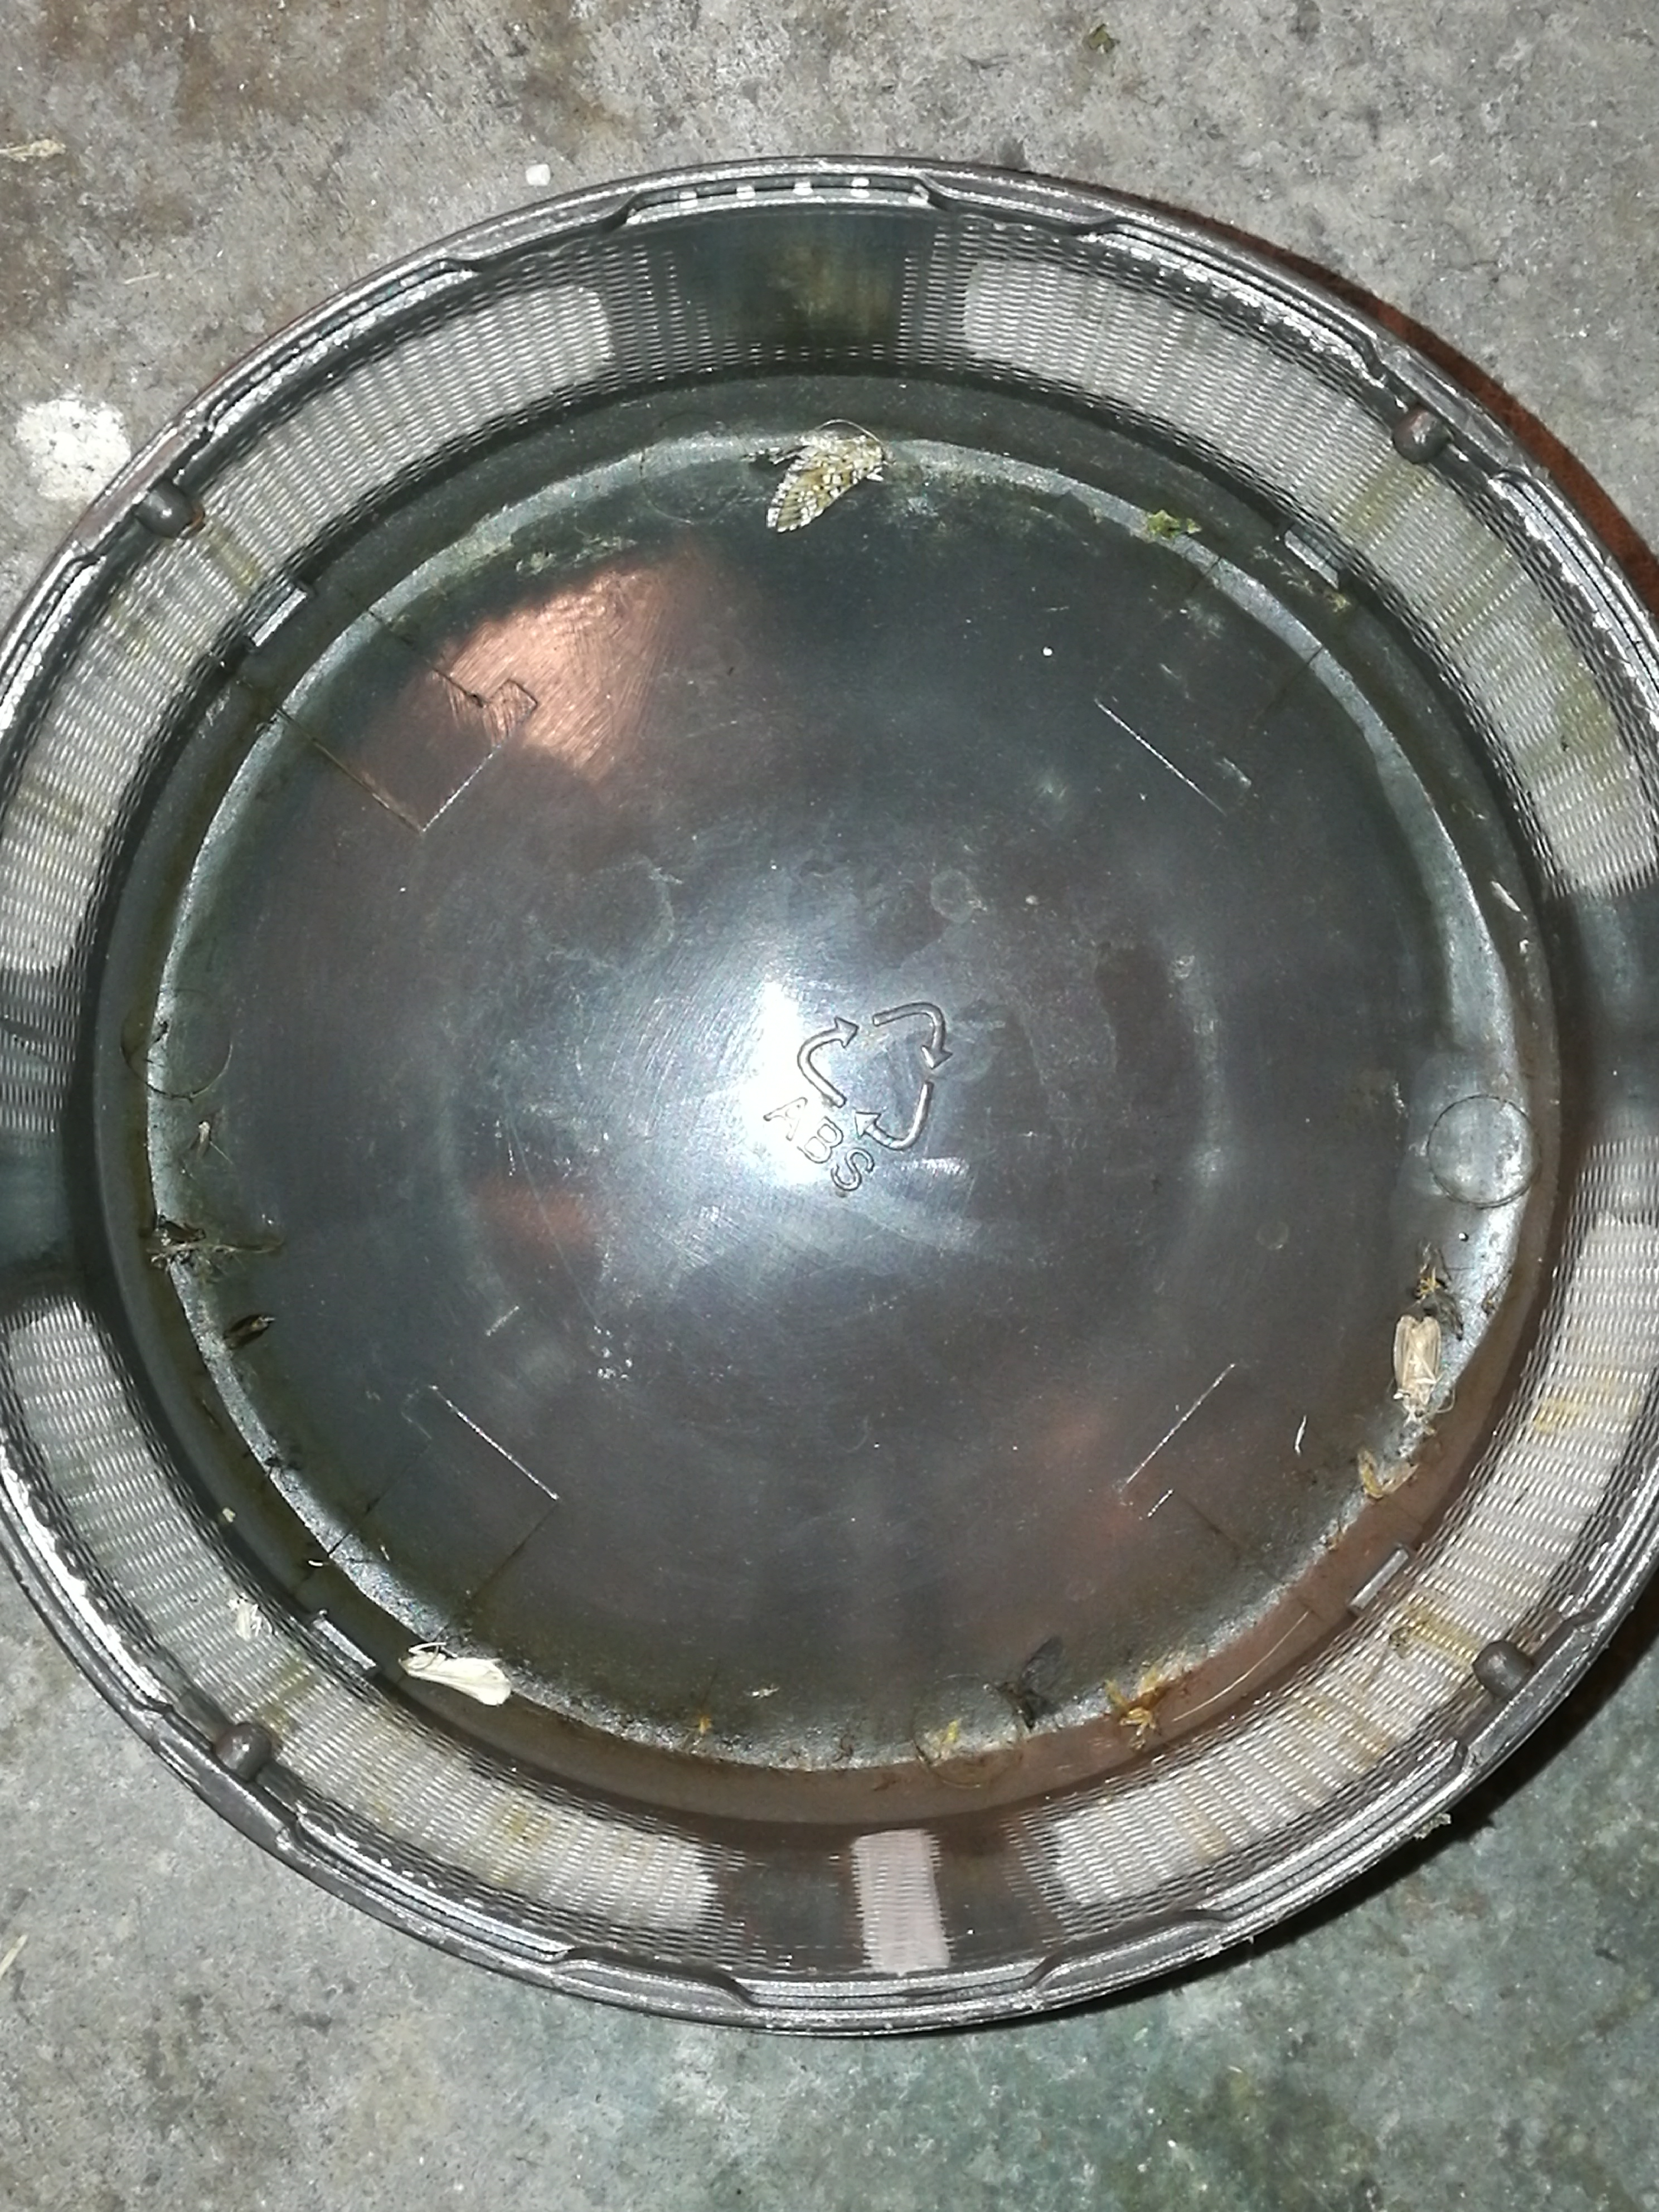mosquito: (1420, 1240, 1462, 1338)
moth: (765, 437, 884, 531), (401, 1653, 509, 1707), (1394, 1317, 1438, 1421)
